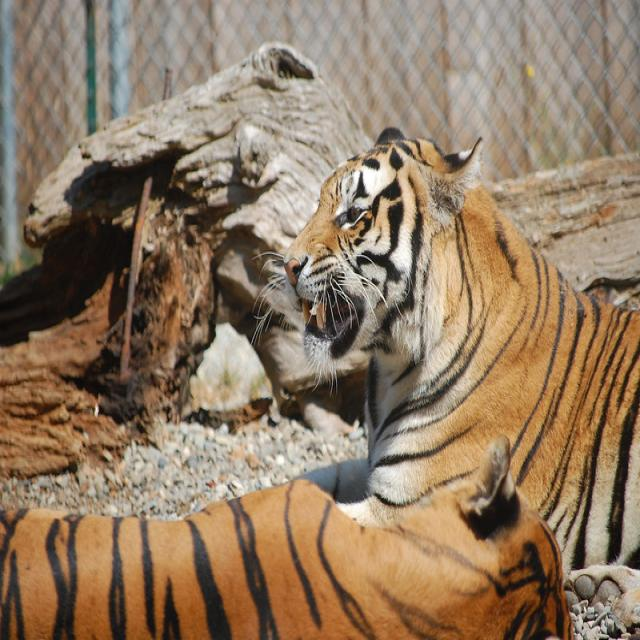Tiger: (0, 121, 636, 636)
